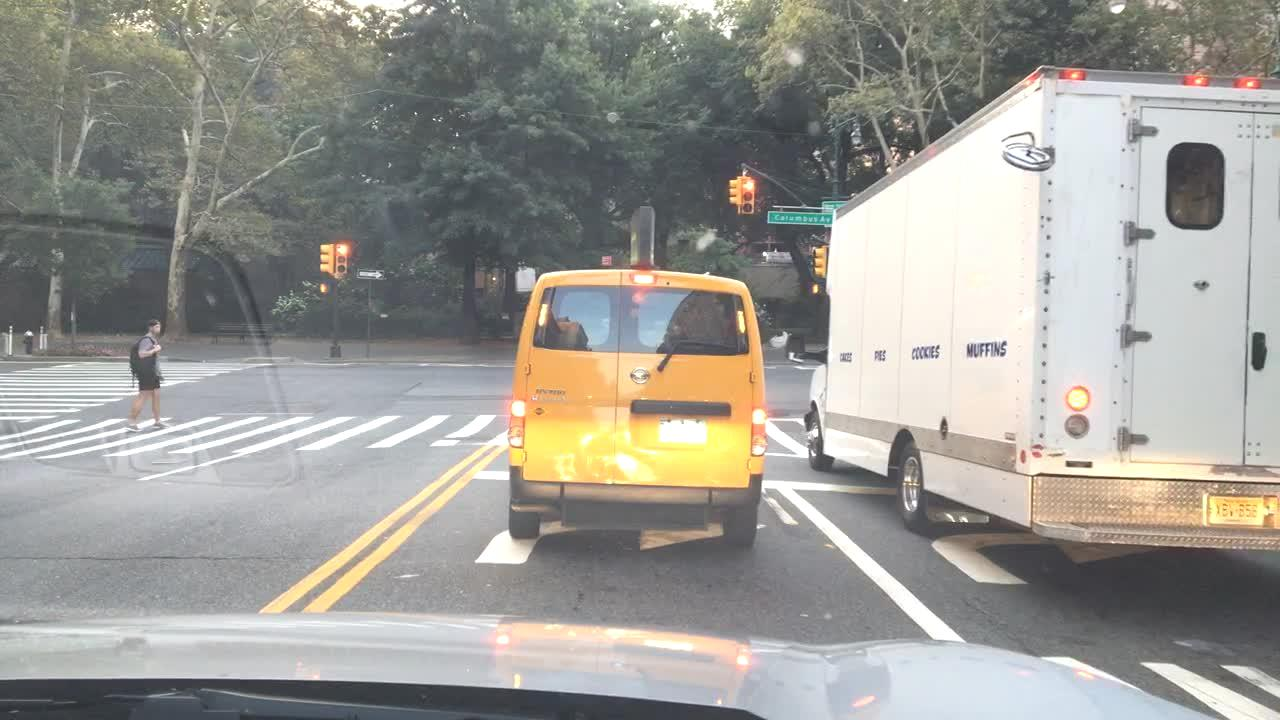Nissan: (626, 364, 654, 389)
